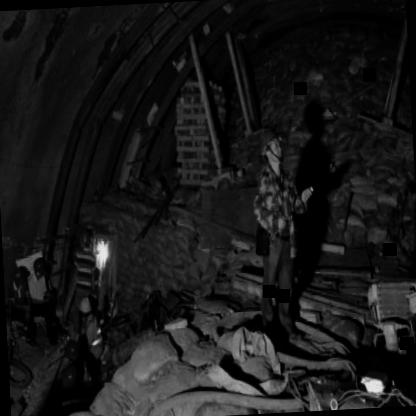helmet: (254, 120, 284, 168), (56, 363, 80, 392), (61, 334, 81, 362), (31, 253, 50, 281), (10, 263, 29, 290), (78, 292, 93, 323), (76, 226, 92, 246)
